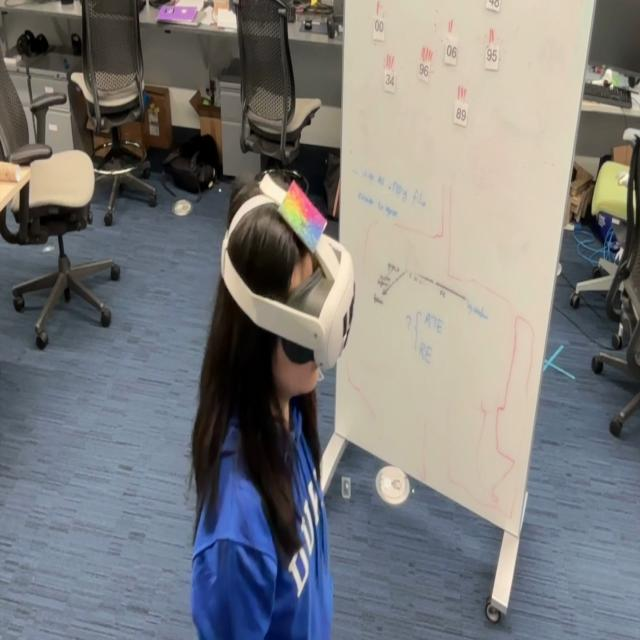Headset: (220, 168, 355, 372)
Marker: (277, 176, 328, 256)
